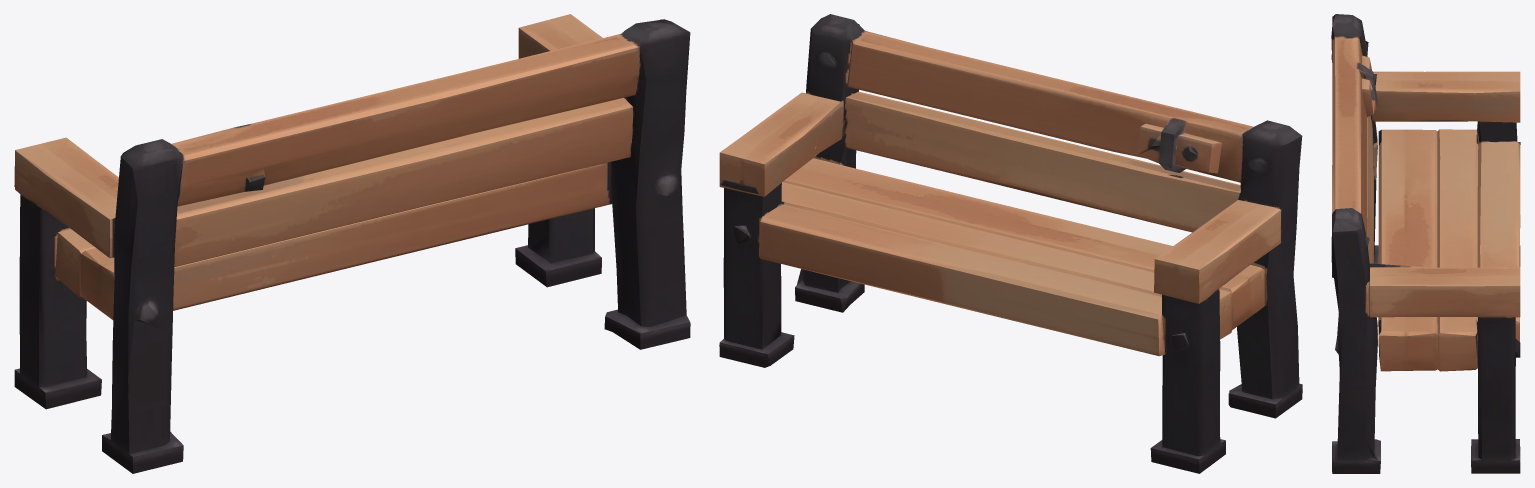
File: seat_bench_v2.glb
3 views of the same model, side by side, from view 1: azimuth 30°, elevation 25°; view 2: azimuth 150°, elevation 25°; view 3: azimuth 270°, elevation 25° (orthographic). The views are drawn at different scales.
Parts seen in each view (by area): view 1: body; view 2: body; view 3: body.
Part boxes in pixels (box(x1,y1,x2,y2)): body: box(14, 14, 690, 473); body: box(719, 14, 1302, 473); body: box(1331, 14, 1520, 473).
Bounding box in the file's own units: 1.6 × 0.8662 × 0.5938.
Materials: 1 (1 with a texture image).
